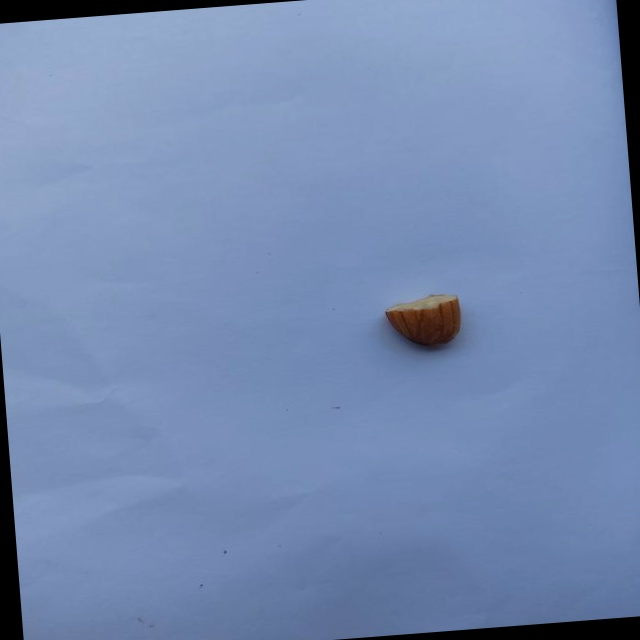grade4: (375, 288, 471, 357)
